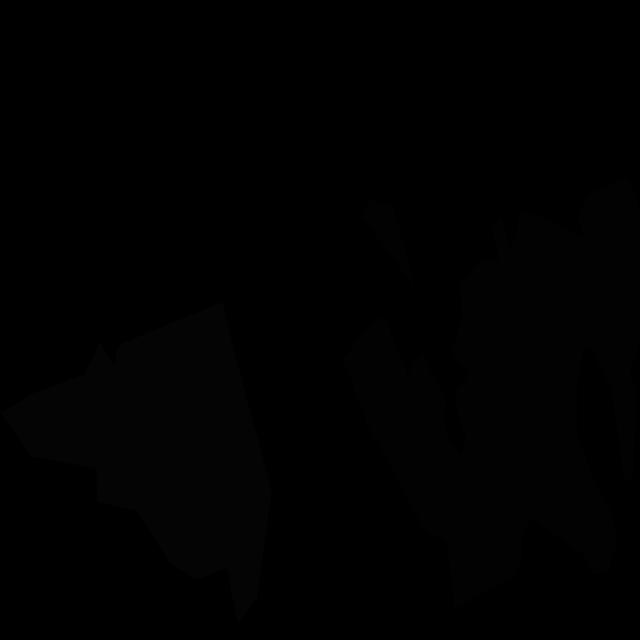cardboard: (343, 216, 640, 609), (516, 213, 632, 289), (577, 176, 640, 292), (362, 198, 415, 288)
soft_plastic: (0, 302, 272, 624)
